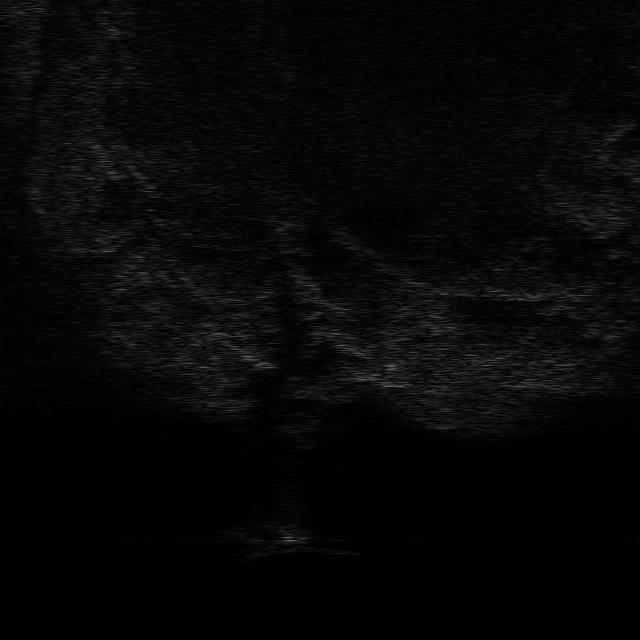plane: (222, 522, 356, 560)
